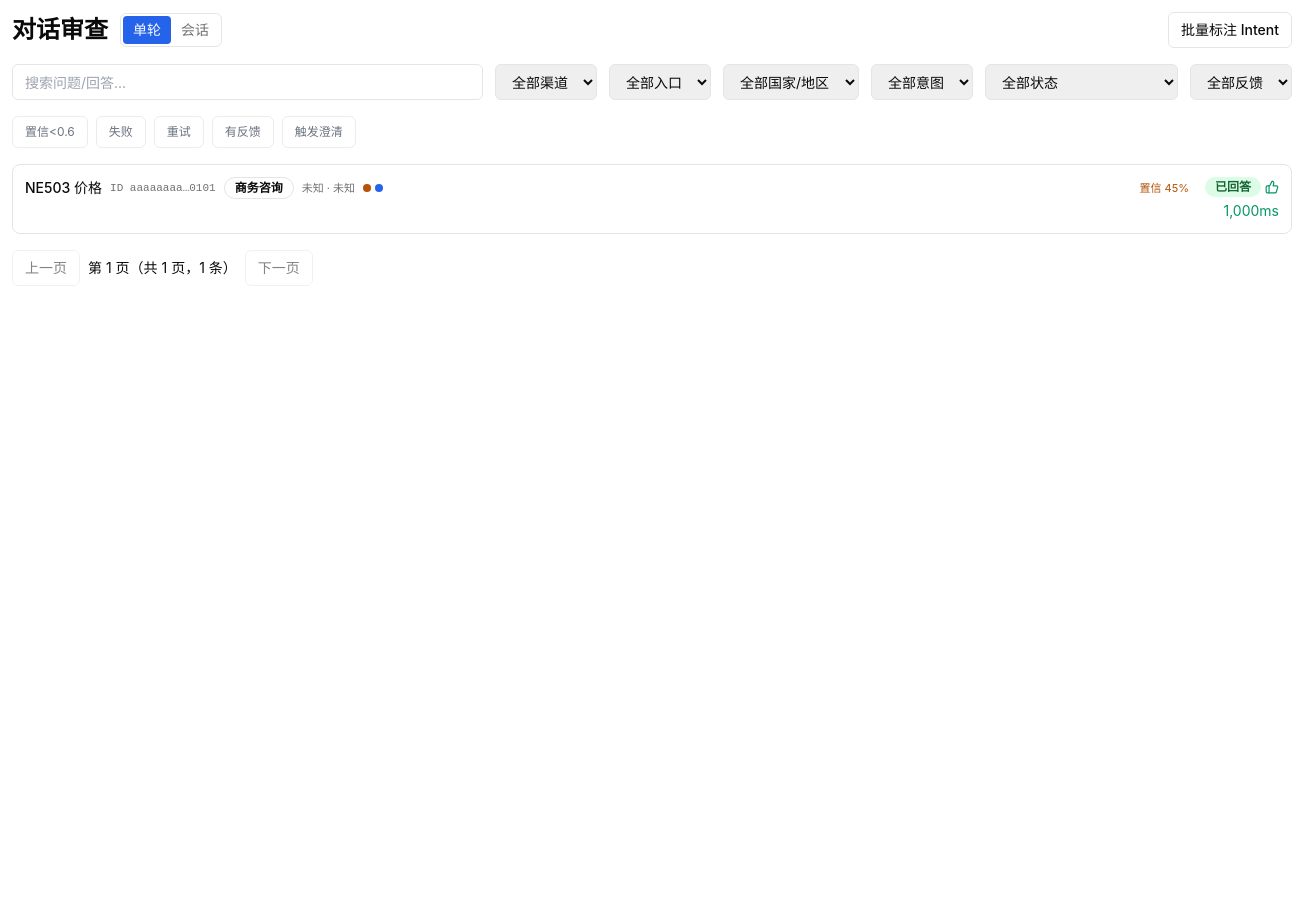
Test: Conversations 审查页 › 点击行展开 trace 5 泳道
The image size is (1304, 912).
Click the text "NE503 价格". click: point(64, 188)
box: [25,178,102,198]
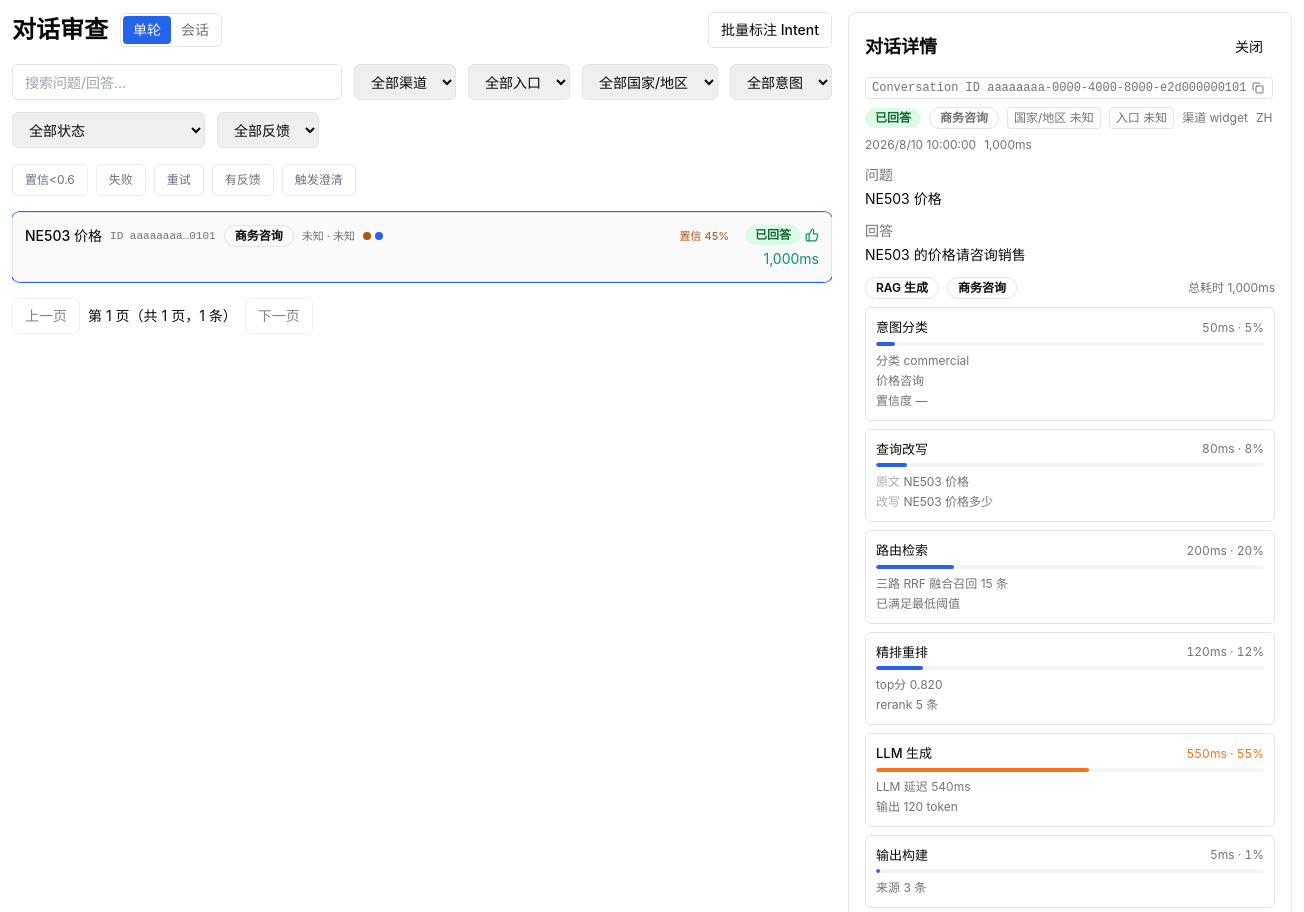
Now the text "意图分类" is shown, box [876,318,928,338]
Now the text "输出构建" is shown, box [876,846,928,865]
